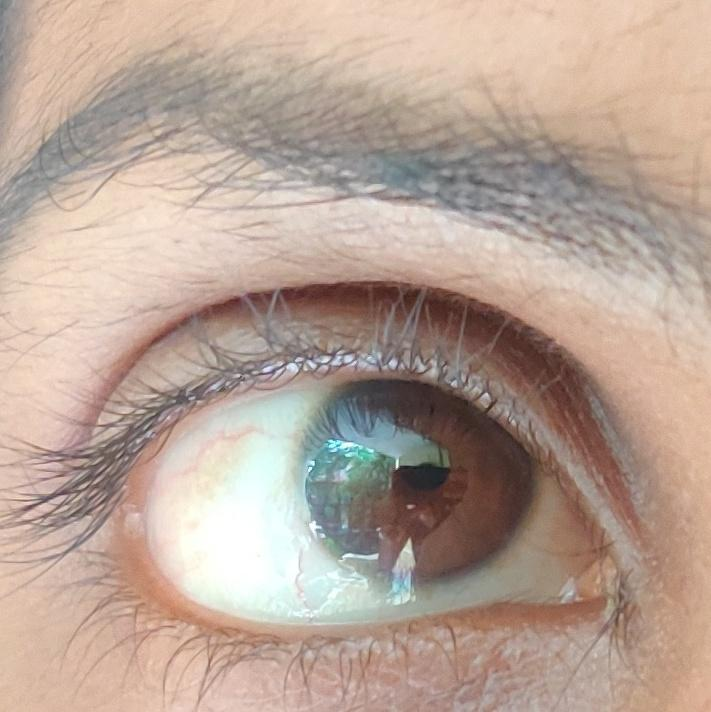open: (9, 264, 711, 712)
